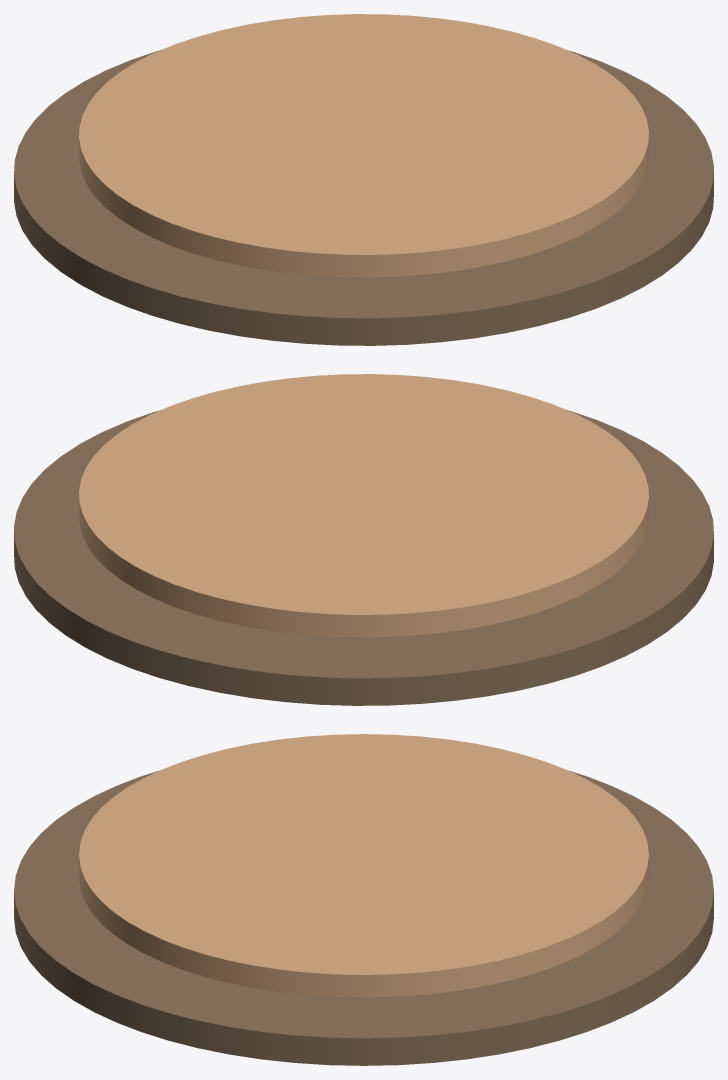
The model's file is plateform_block_4.gltf.
3 renders of one model, top to bottom at view 1: azimuth 30°, elevation 25°; view 2: azimuth 150°, elevation 25°; view 3: azimuth 270°, elevation 25°, orthographic.
Parts seen in each view (by area): view 1: Ellipse 3, Ellipse 2; view 2: Ellipse 3, Ellipse 2; view 3: Ellipse 3, Ellipse 2.
Boxes of the visible parts, x1,y1,x2,y2 form: Ellipse 3: (79, 14, 648, 277); Ellipse 2: (14, 50, 713, 345); Ellipse 3: (79, 374, 648, 637); Ellipse 2: (14, 410, 713, 705); Ellipse 3: (79, 734, 648, 997); Ellipse 2: (14, 770, 713, 1065).
Bounding box in the file's own units: 0.5211 × 0.0521 × 0.5211.
